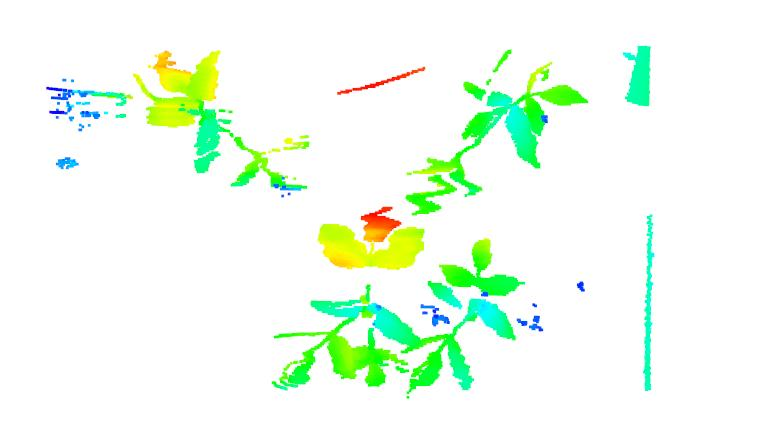mungbean: (403, 58, 588, 217), (272, 201, 425, 392), (141, 43, 313, 194), (400, 235, 521, 398)
